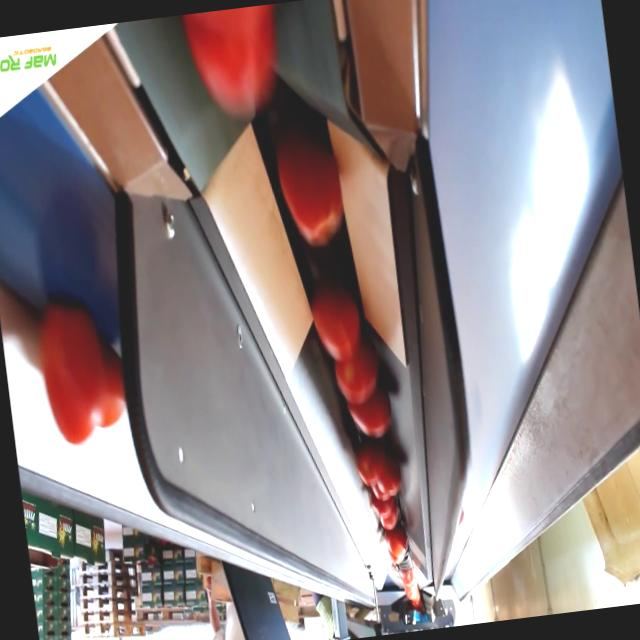Tomato: (34, 298, 130, 448), (178, 3, 288, 116), (273, 130, 350, 247), (309, 280, 365, 361), (334, 334, 379, 402), (348, 389, 394, 438), (352, 434, 386, 483), (375, 454, 403, 496), (386, 524, 409, 554), (368, 494, 394, 513), (378, 511, 398, 531)
